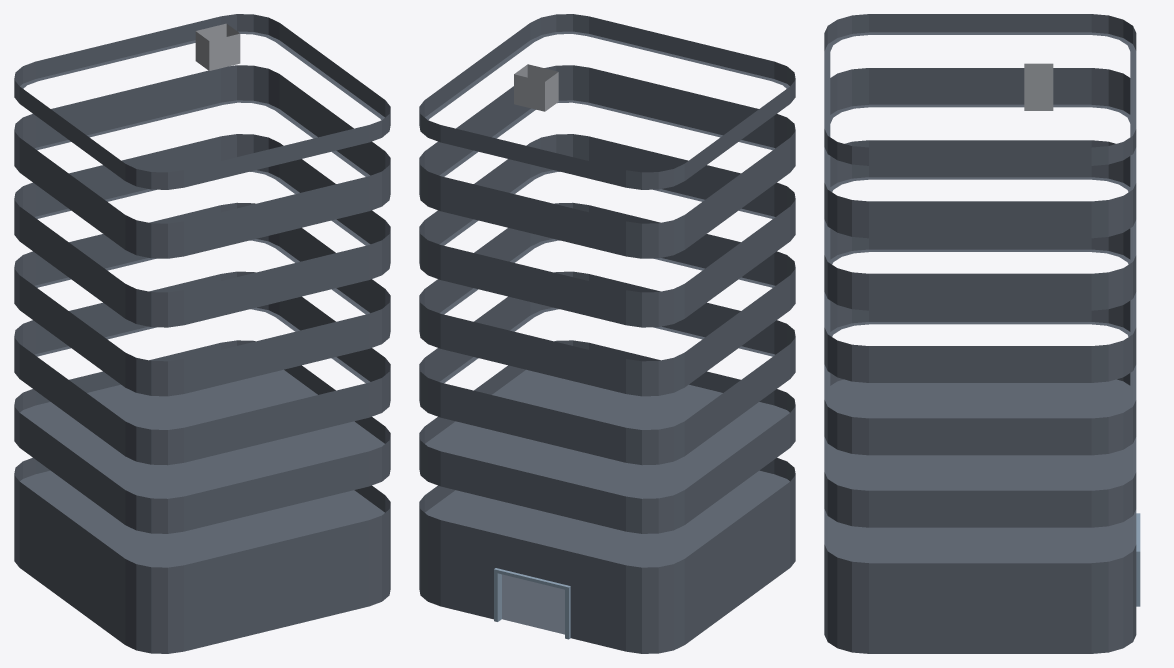
File: Bld_O_high_L4_B.fbx
The picture shows the model from 3 angles, left to right: view 1: azimuth 30°, elevation 25°; view 2: azimuth 150°, elevation 25°; view 3: azimuth 270°, elevation 25°; orthographic projection. The views are drawn at different scales.
Visible parts, largest first — view 1: Bld_O_high_L4_B_LOD0; view 2: Bld_O_high_L4_B_LOD0; view 3: Bld_O_high_L4_B_LOD0.
Part boxes in pixels (bbox=[...]): Bld_O_high_L4_B_LOD0: bbox=[14, 14, 390, 653]; Bld_O_high_L4_B_LOD0: bbox=[419, 14, 795, 653]; Bld_O_high_L4_B_LOD0: bbox=[824, 14, 1140, 653].
Size of what is drawn, in the model's own units: 2180 by 4406 by 2313.
Materials: 1 (1 with a texture image).
